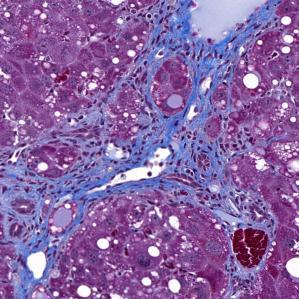fibrosis: (81, 123, 222, 198)
